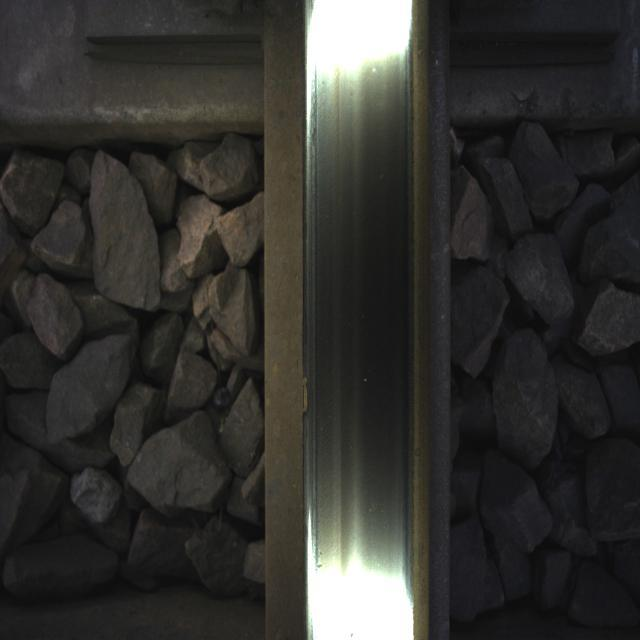break: (306, 19, 409, 609)
